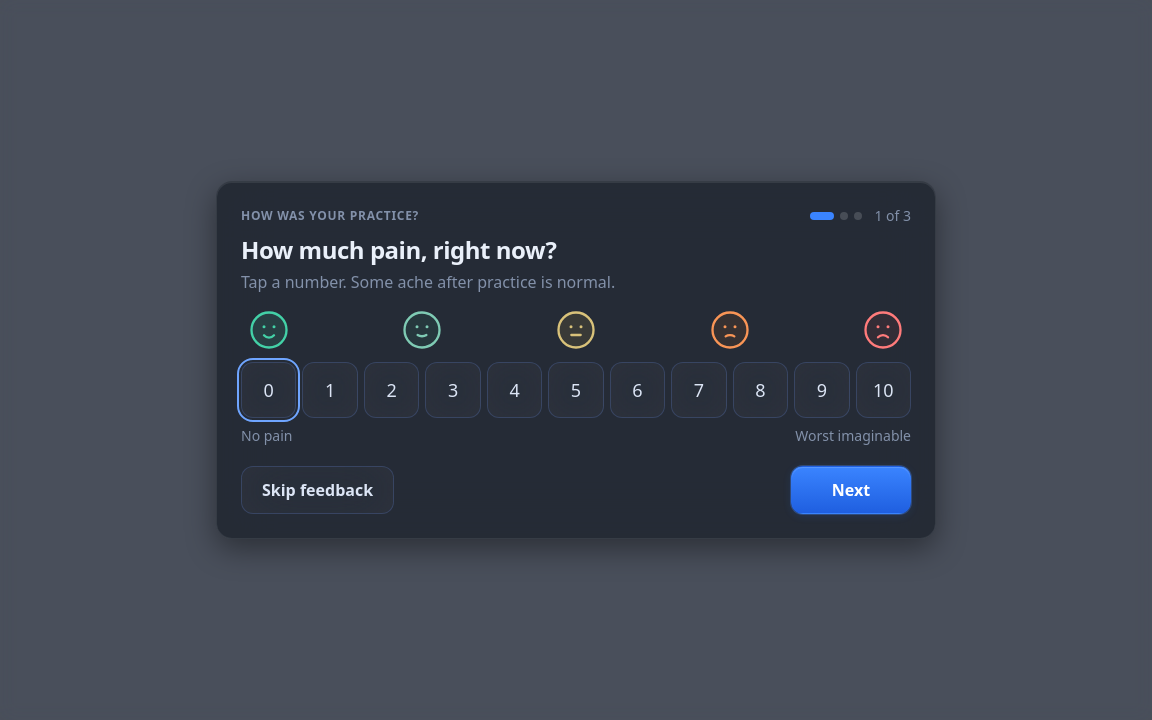
Test case: the pain before the session comes from the check-in and the change is shown
Step 1. Click the radio button labelled "5" → (576,390), box [548,362,604,418]
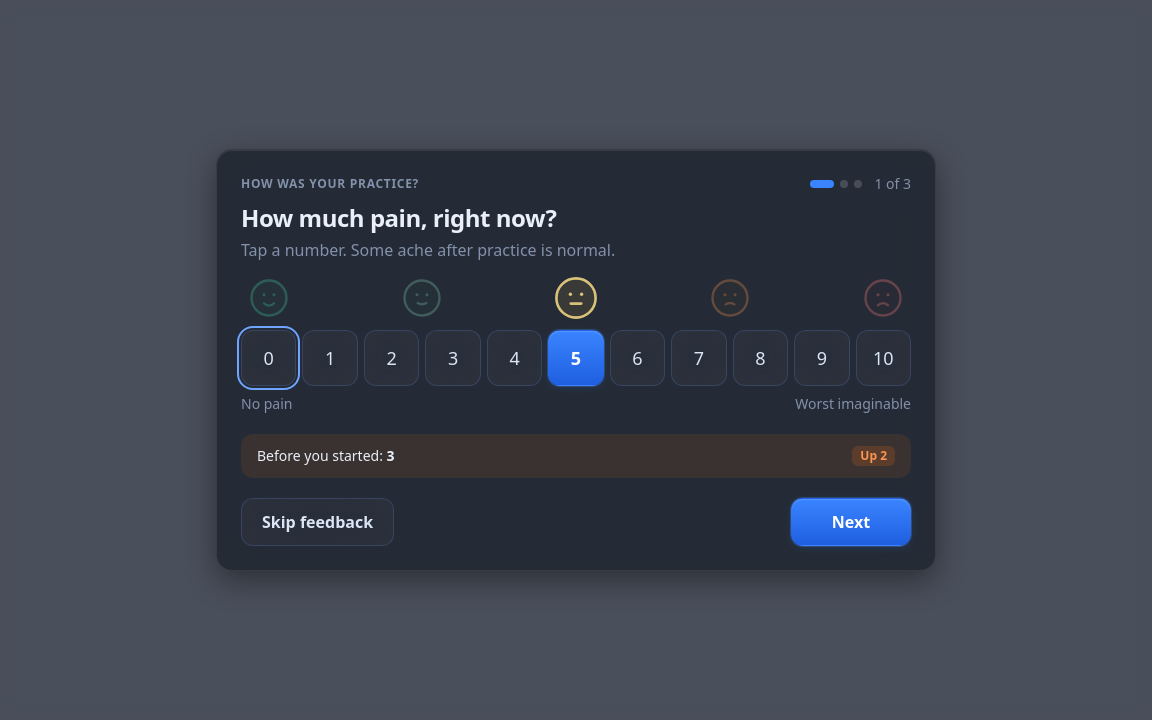
Expected: the text "Up 2" is shown, [852,446,895,466]
Expected: the text "Before you started: 3" is shown, [257,446,395,466]
